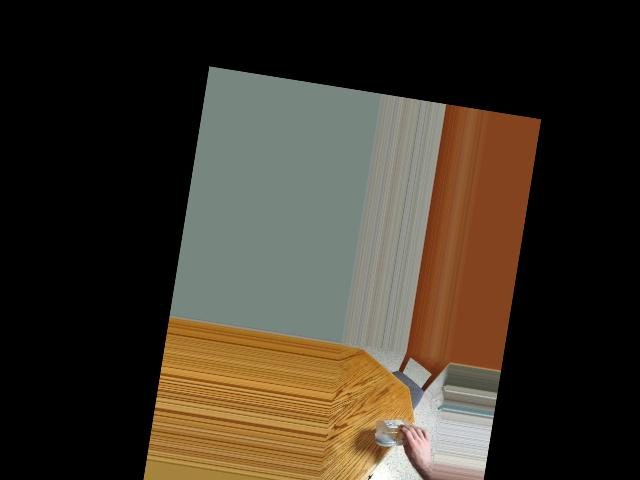cheese: (380, 416, 422, 454)
